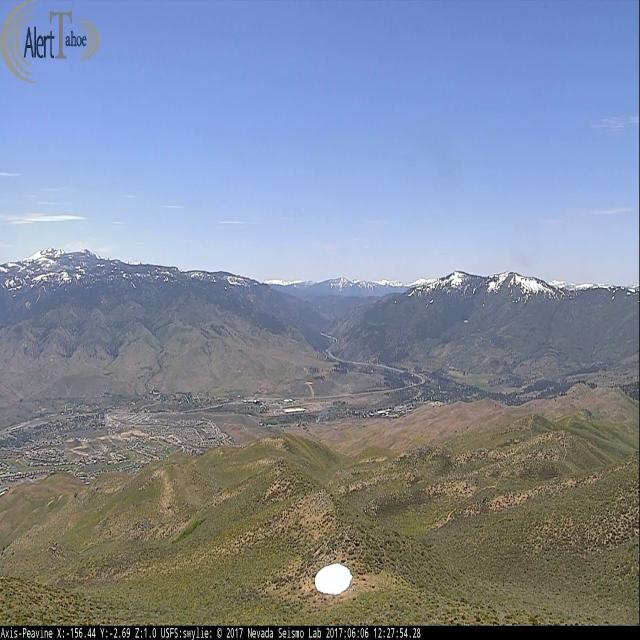smoke: (314, 393, 337, 425)
